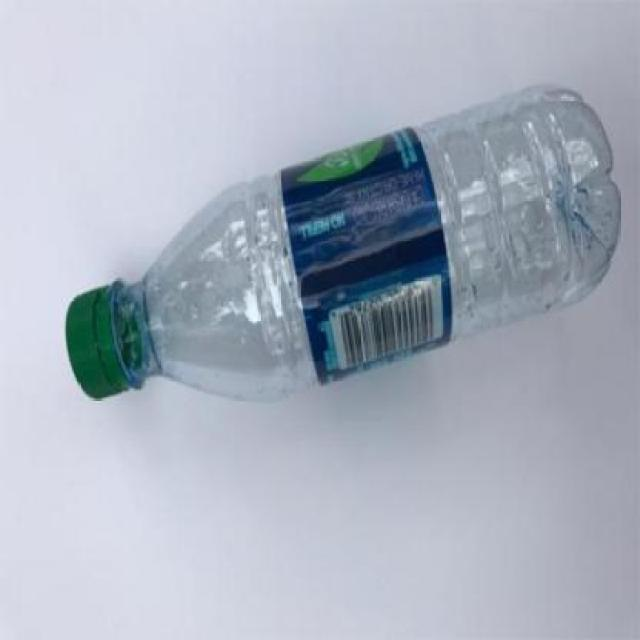Plastic: (67, 78, 621, 399)
